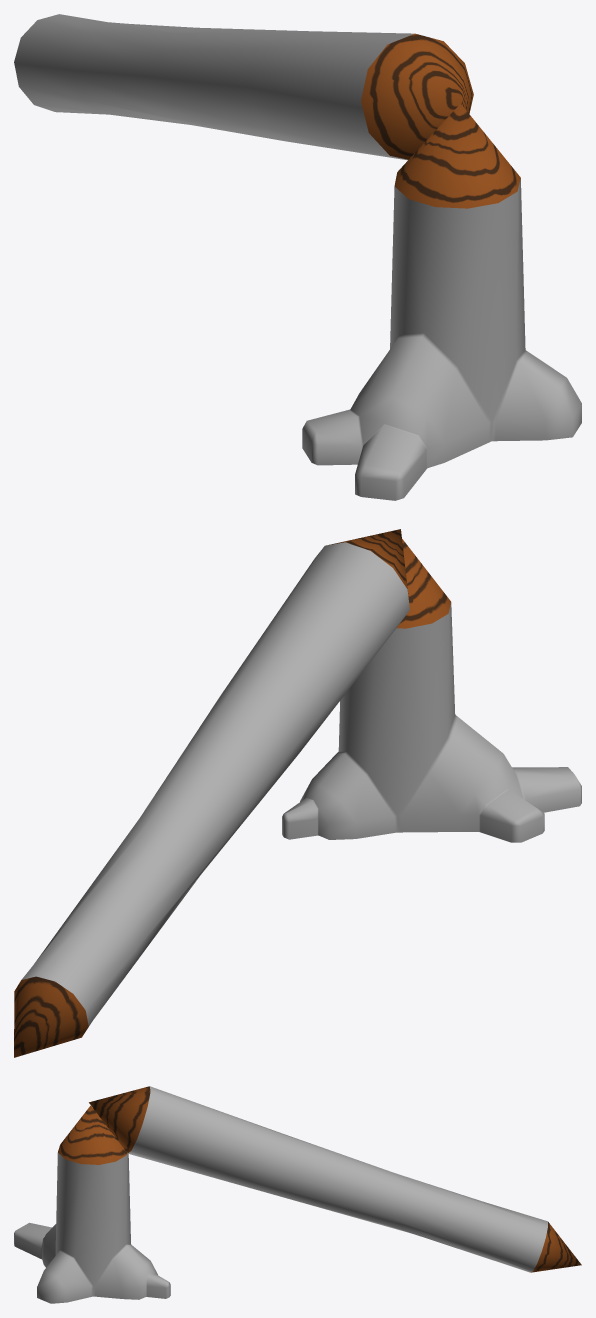
Rendered from FallenTree.fbx.
3 renders of one model, top to bottom at view 1: azimuth 30°, elevation 25°; view 2: azimuth 150°, elevation 25°; view 3: azimuth 270°, elevation 25°, orthographic. The views are drawn at different scales.
Visible parts, largest first — view 1: polySurface3; view 2: polySurface3; view 3: polySurface3.
Boxes of the visible parts, x1=… form: polySurface3: x1=14, y1=14, x2=581, y2=500; polySurface3: x1=14, y1=529, x2=581, y2=1057; polySurface3: x1=14, y1=1086, x2=581, y2=1303.
Size of the model in its own units: 2.92 by 3.92 by 10.57.
